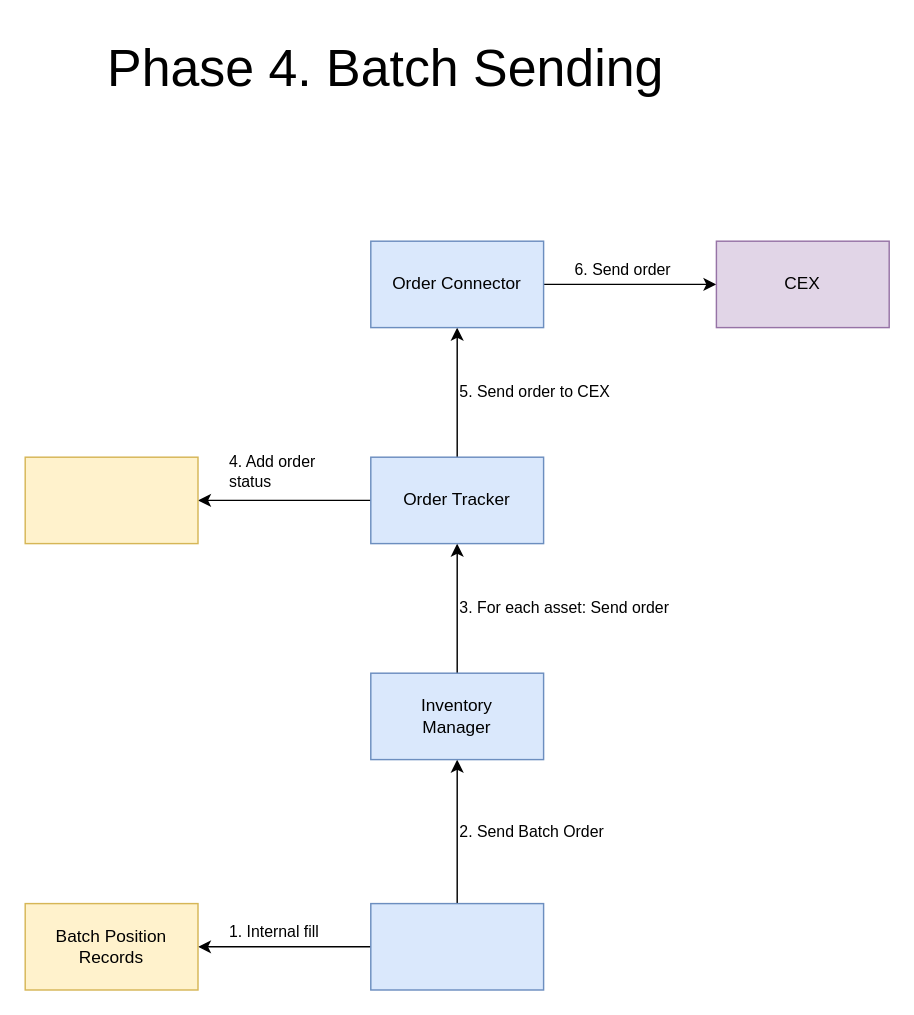
Some shapes in this 914 by 1015 pixel diagram are drawn without their labels. The box of each missing label's shape, as (x1, y1, x2, y2) in pixels:
Batch Manager: (369, 902, 544, 990)
CEX Order Status: (24, 456, 198, 544)
